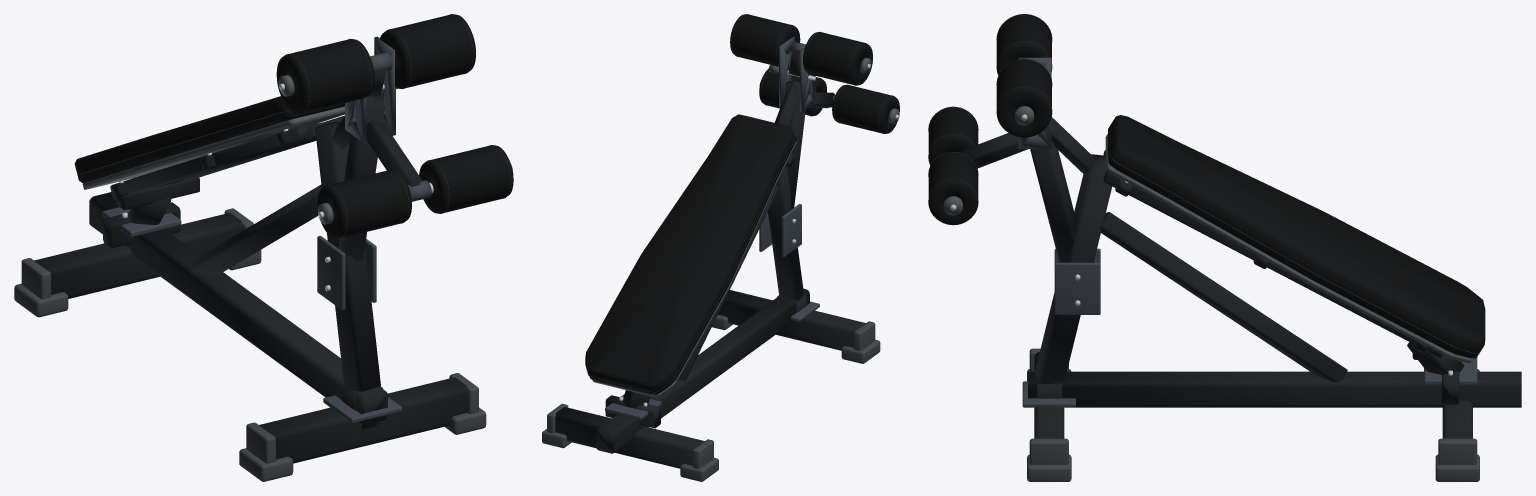
The model's file is abdominal_bench.glb.
3 views of the same model, side by side, from view 1: azimuth 30°, elevation 25°; view 2: azimuth 150°, elevation 25°; view 3: azimuth 270°, elevation 25° (orthographic). The views are drawn at different scales.
Parts seen in each view (by area): view 1: MainFrame_Frame, UpperLegRoller_Padding, FrontStabilizerFoot_Frame, BackrestPadding_Padding, RearStabilizerFoot_Frame, RubberEndCaps_Rubber, RightAnkleRoller_Padding, LeftAnkleRoller_Padding, BackrestFrame_Frame, BackrestFrame_Cap, LegAnchorFrame_Frame, MainFrame_Trim (+8 smaller); view 2: BackrestPadding_Padding, MainFrame_Frame, UpperLegRoller_Padding, RearStabilizerFoot_Frame, FrontStabilizerFoot_Frame, RubberEndCaps_Rubber, LeftAnkleRoller_Padding, LegAnchorFrame_Frame, RollerAdjustmentMechanism_Trim, MainFrame_Trim, RightAnkleRoller_Padding, BackrestFrame_Cap (+4 smaller); view 3: MainFrame_Frame, BackrestPadding_Padding, UpperLegRoller_Padding, RubberEndCaps_Rubber, LegAnchorFrame_Frame, RightAnkleRoller_Padding, BackrestFrame_Frame, MainFrame_Trim, BackrestFrame_Cap, LeftAnkleRoller_Padding, RollerMountingArms_Frame, RearStabilizerFoot_Frame (+5 smaller).
Part boxes in pixels (bbox=[...]): MainFrame_Frame: bbox=[89, 121, 387, 425]; UpperLegRoller_Padding: bbox=[276, 14, 475, 113]; FrontStabilizerFoot_Frame: bbox=[259, 377, 467, 463]; BackrestPadding_Padding: bbox=[74, 96, 344, 183]; RearStabilizerFoot_Frame: bbox=[34, 213, 242, 298]; RubberEndCaps_Rubber: bbox=[14, 208, 486, 481]; RightAnkleRoller_Padding: bbox=[419, 145, 513, 213]; LeftAnkleRoller_Padding: bbox=[317, 170, 411, 238]; BackrestFrame_Frame: bbox=[110, 115, 344, 199]; BackrestFrame_Cap: bbox=[82, 106, 344, 189]; LegAnchorFrame_Frame: bbox=[331, 96, 384, 260]; MainFrame_Trim: bbox=[317, 235, 376, 310]; BackrestPadding_Padding: bbox=[585, 114, 796, 394]; MainFrame_Frame: bbox=[595, 166, 809, 453]; UpperLegRoller_Padding: bbox=[730, 14, 872, 85]; RearStabilizerFoot_Frame: bbox=[555, 407, 704, 468]; FrontStabilizerFoot_Frame: bbox=[718, 290, 866, 350]; RubberEndCaps_Rubber: bbox=[542, 315, 880, 481]; LeftAnkleRoller_Padding: bbox=[832, 85, 899, 133]; LegAnchorFrame_Frame: bbox=[774, 80, 805, 209]; RollerAdjustmentMechanism_Trim: bbox=[779, 36, 815, 112]; MainFrame_Trim: bbox=[759, 204, 801, 257]; RightAnkleRoller_Padding: bbox=[759, 69, 826, 116]; BackrestFrame_Cap: bbox=[592, 141, 796, 397]; MainFrame_Frame: bbox=[1028, 154, 1521, 407]; BackrestPadding_Padding: bbox=[1108, 115, 1485, 358]; UpperLegRoller_Padding: bbox=[996, 14, 1051, 137]; RubberEndCaps_Rubber: bbox=[1027, 348, 1479, 481]; LegAnchorFrame_Frame: bbox=[1030, 117, 1096, 262]; RightAnkleRoller_Padding: bbox=[928, 151, 978, 225]; BackrestFrame_Frame: bbox=[1103, 150, 1442, 357]; MainFrame_Trim: bbox=[1054, 248, 1100, 314]; BackrestFrame_Cap: bbox=[1105, 134, 1472, 363]; LeftAnkleRoller_Padding: bbox=[928, 106, 978, 165]; RollerMountingArms_Frame: bbox=[958, 133, 1027, 168]; RearStabilizerFoot_Frame: bbox=[1442, 401, 1472, 438].
Size of the model in its own units: 0.665 by 1.19 by 1.67.
7 materials, 2 textured.
